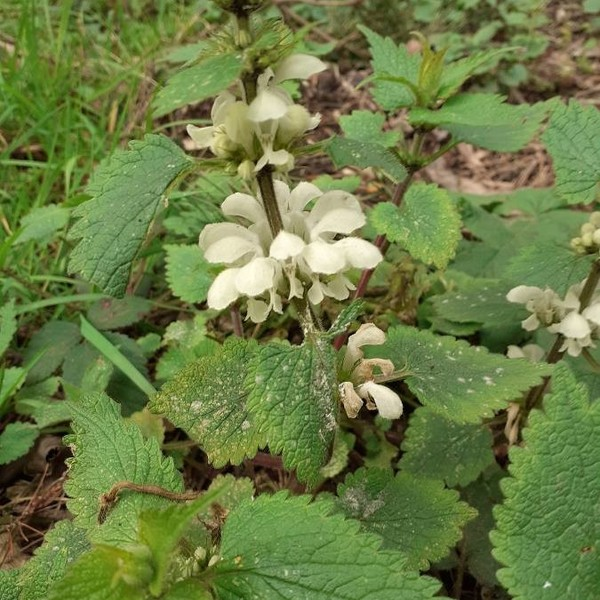obstacle: (76, 21, 552, 555)
